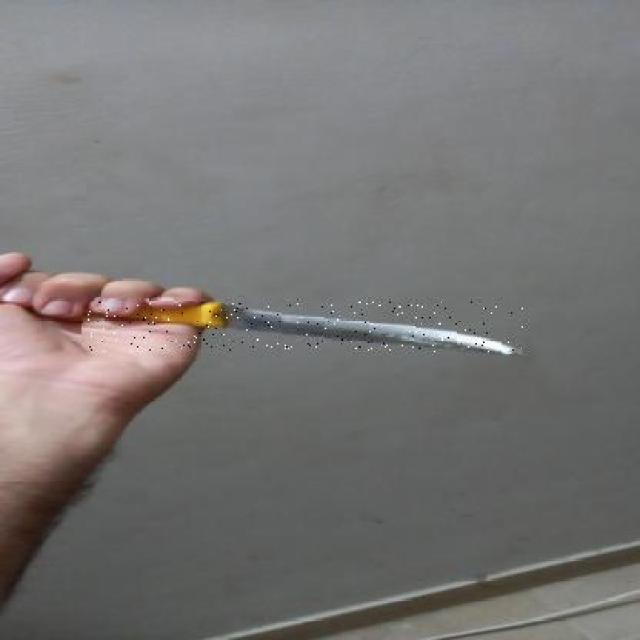knife: (82, 302, 523, 352)
